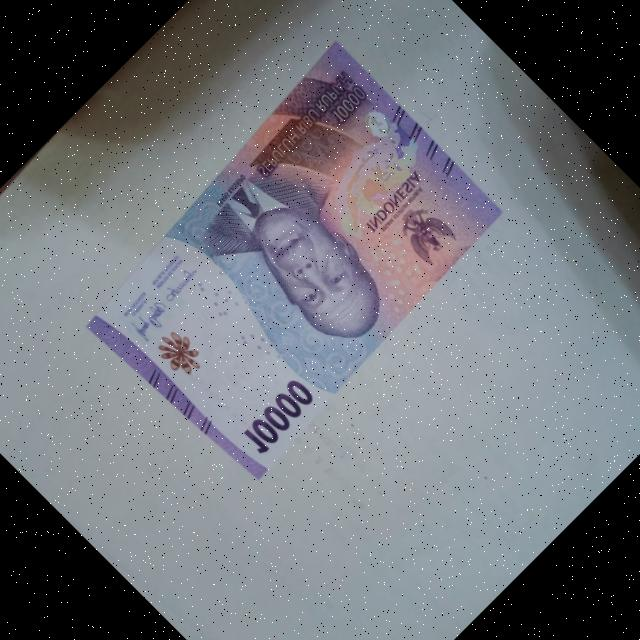10K: (51, 19, 534, 503)
